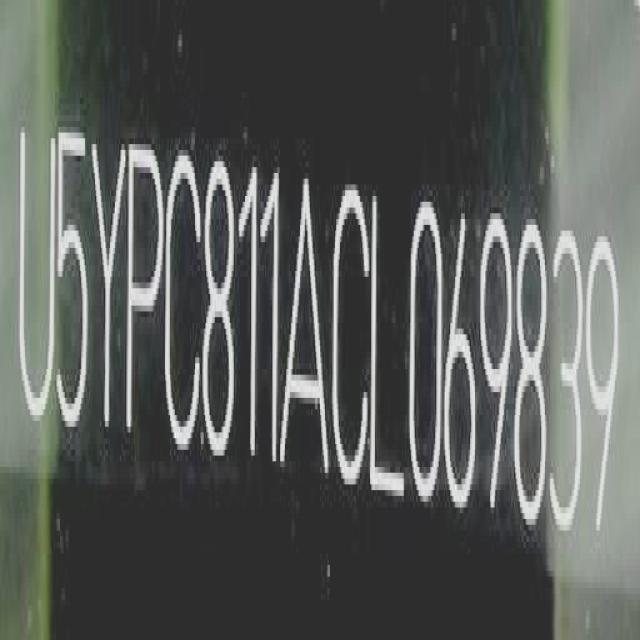0: (410, 186, 444, 511)
1: (238, 168, 261, 462), (259, 161, 281, 456)
3: (551, 220, 584, 537)
6: (444, 196, 479, 502)
8: (203, 142, 236, 462), (514, 196, 546, 522)
9: (586, 221, 624, 543), (478, 212, 514, 522)
A: (280, 164, 332, 470)
C: (163, 133, 202, 485), (330, 147, 369, 491)
L: (370, 175, 407, 505)
P: (126, 117, 161, 479)
U: (16, 99, 58, 465), (55, 117, 91, 445)
Y: (89, 122, 125, 462)
